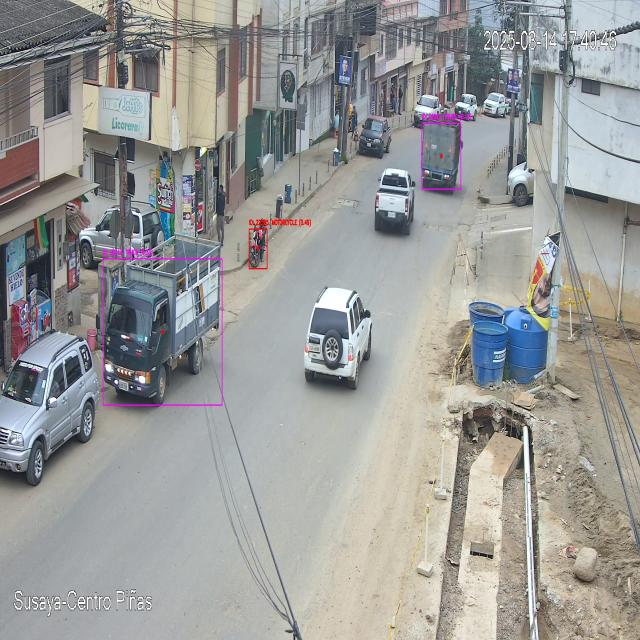CMT: (374, 168, 416, 236), (358, 114, 391, 158)
SUV: (303, 287, 373, 392)
TRUCK: (100, 235, 224, 404)
